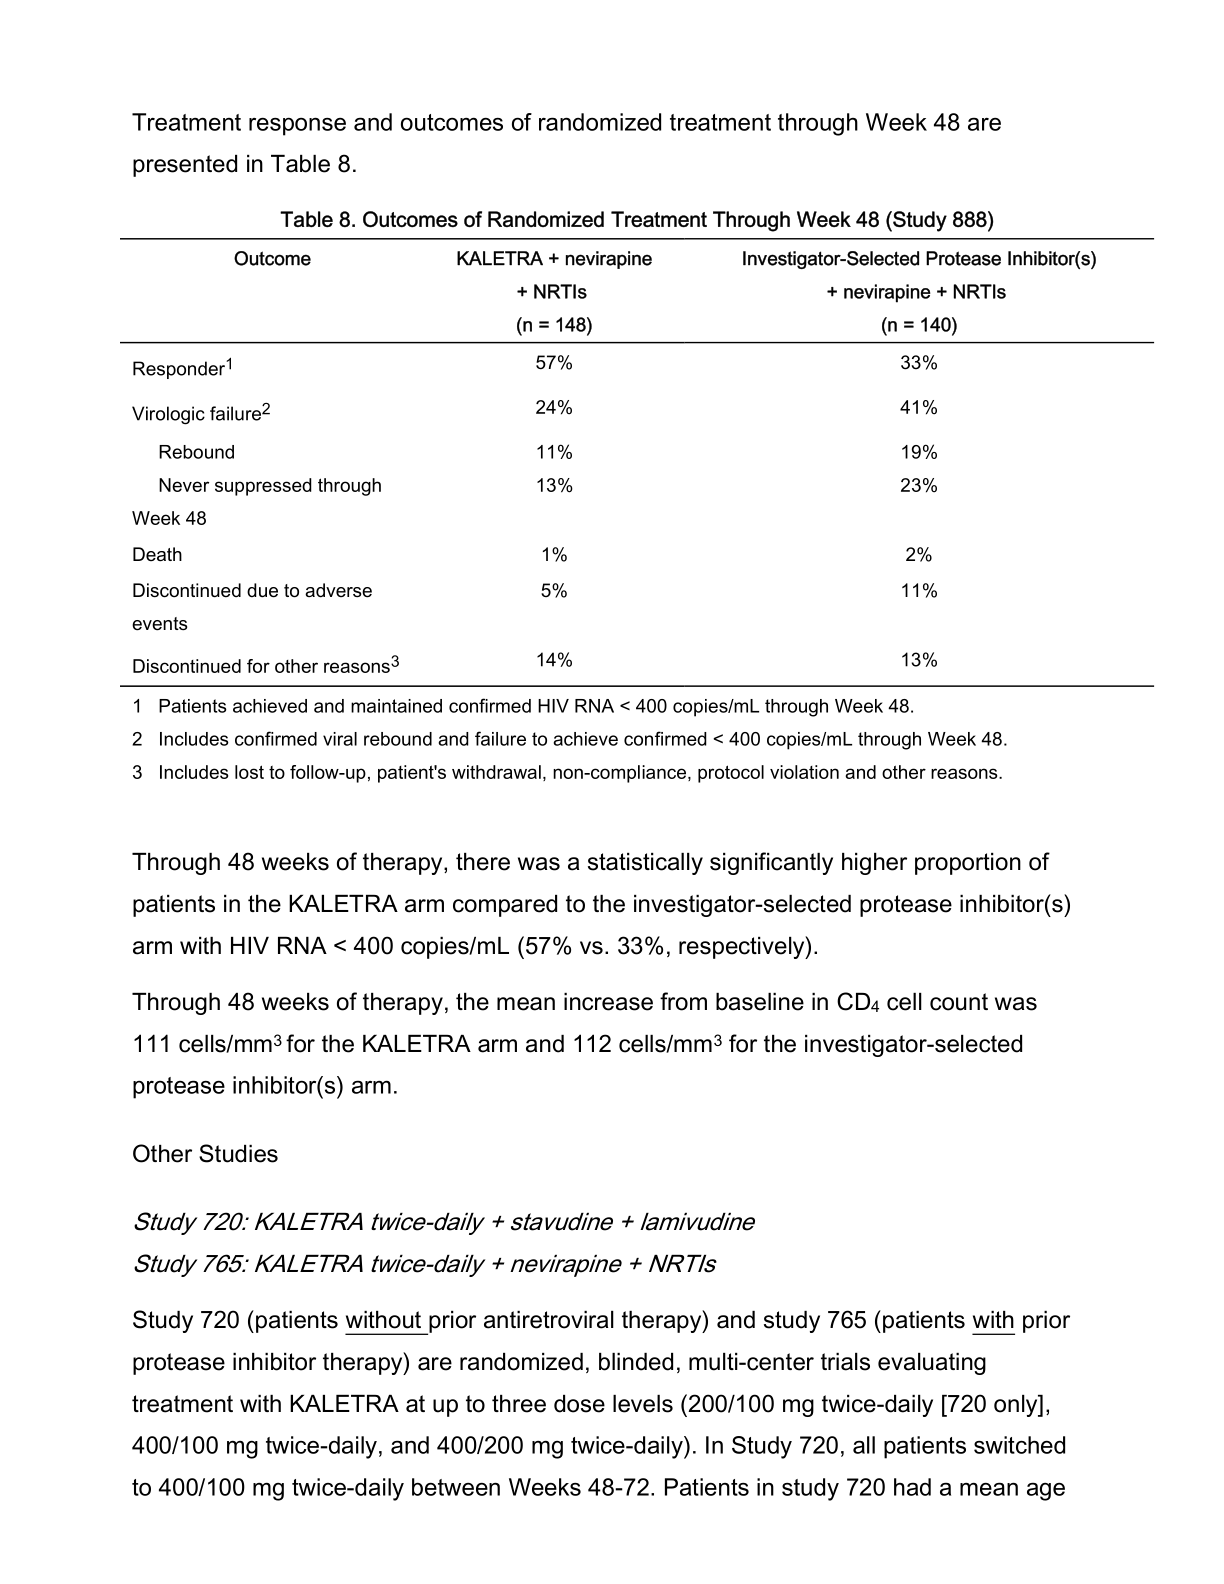partial_lined: (120, 234, 1155, 690)
